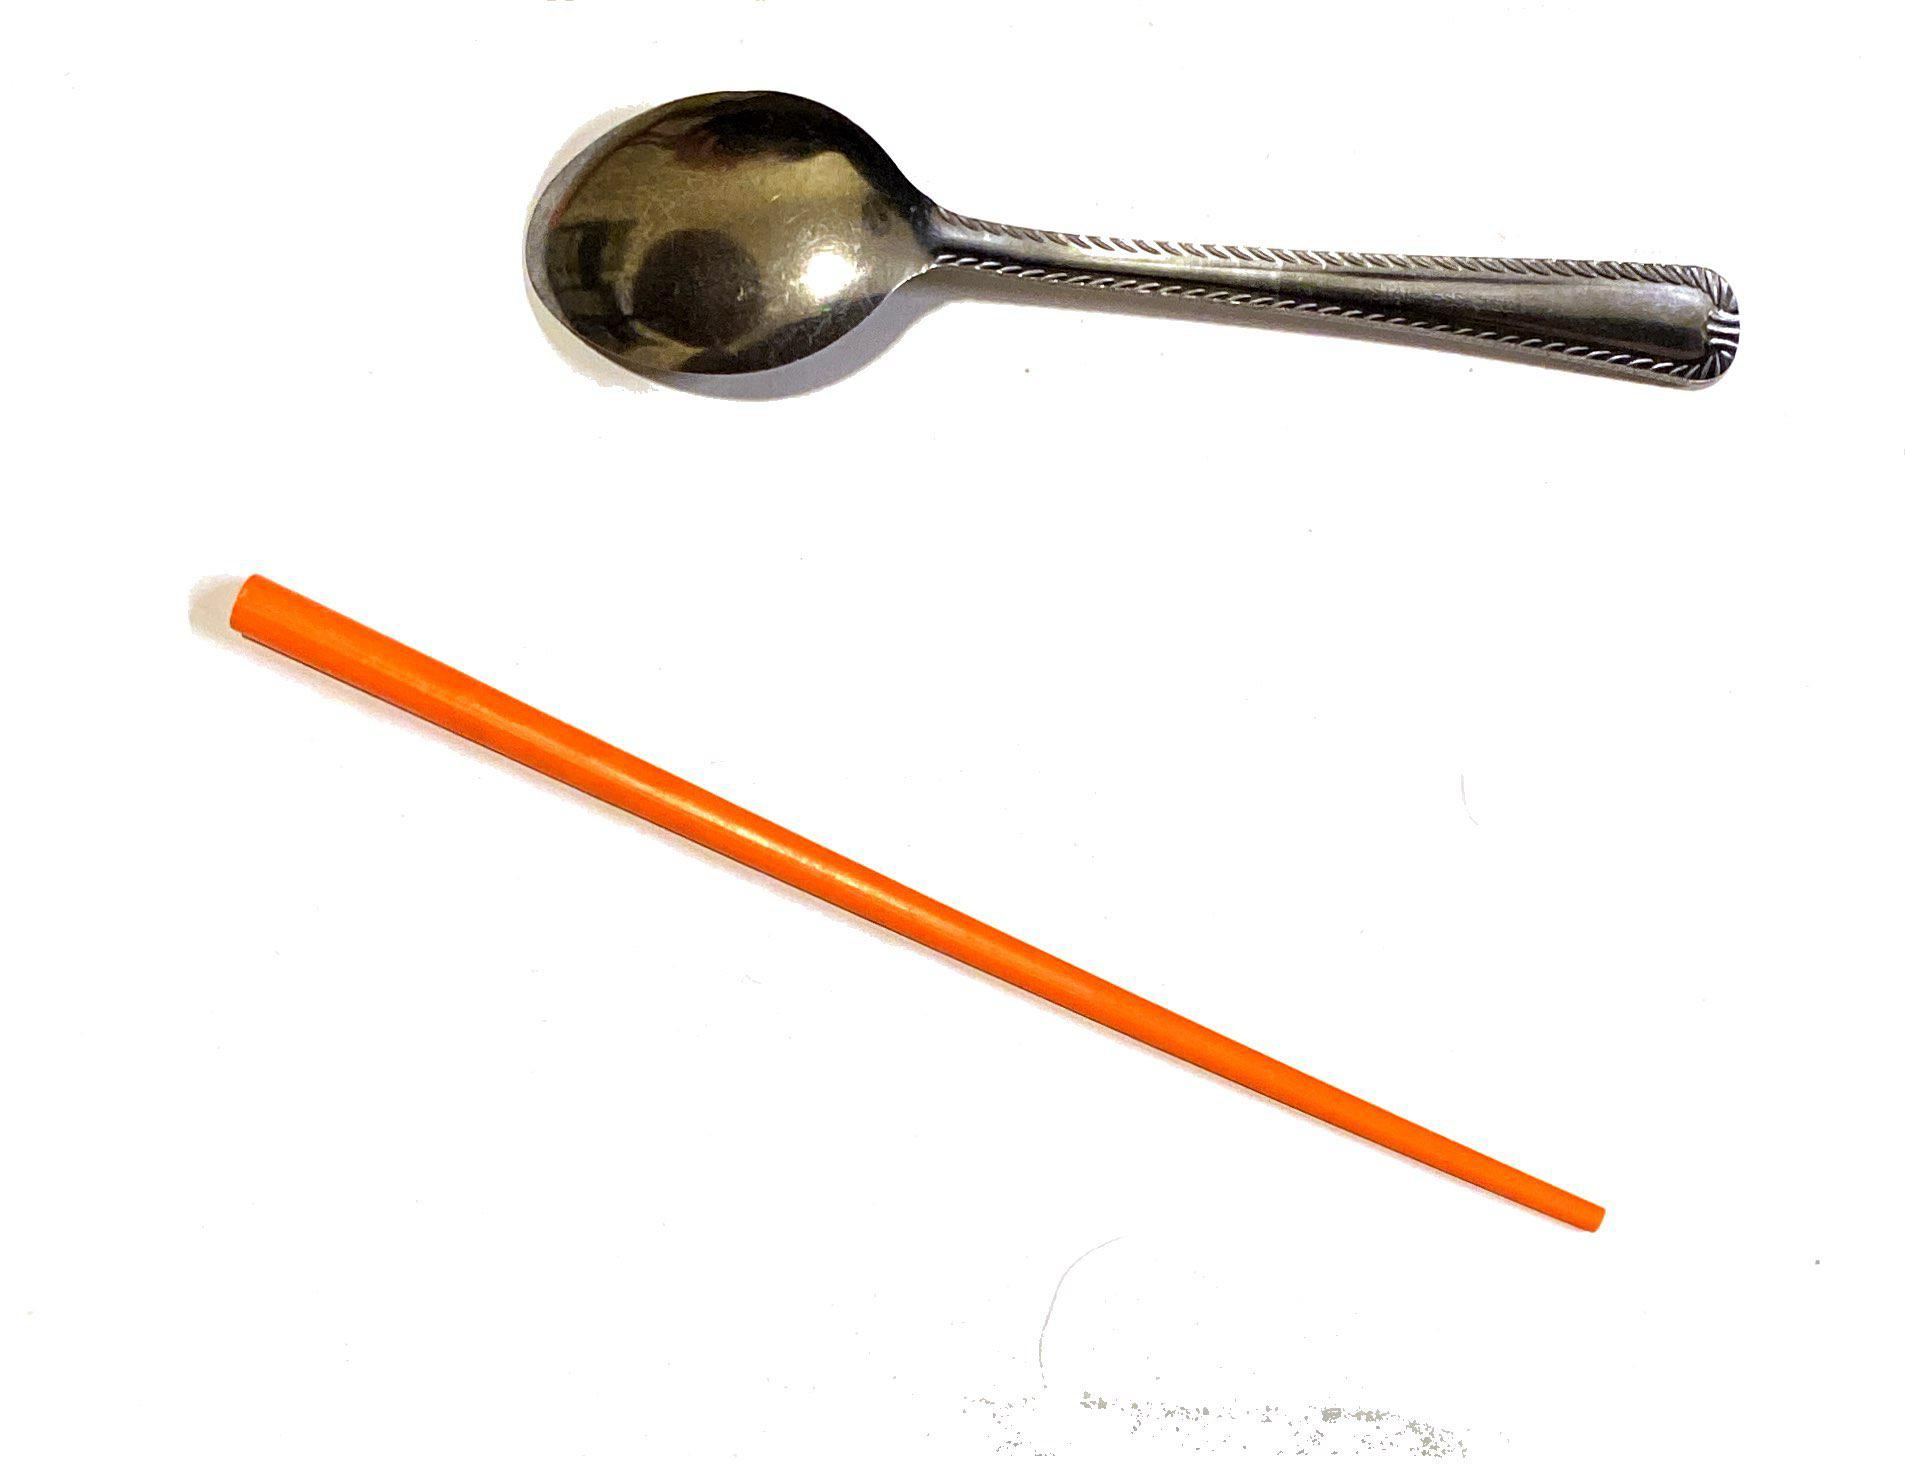Chopstick: (208, 495, 1677, 1390)
Spoon: (487, 45, 1859, 495)
